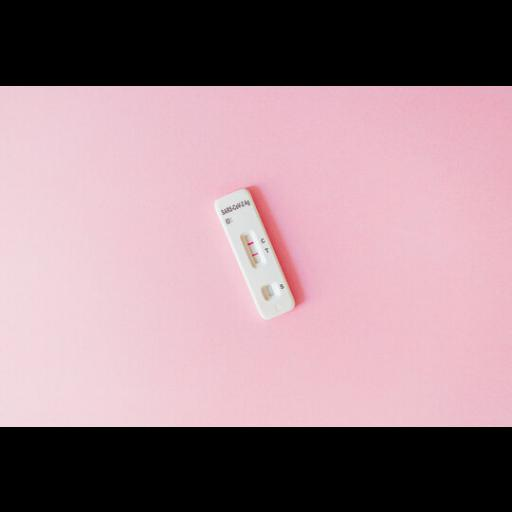Pos: (215, 187, 299, 320)
